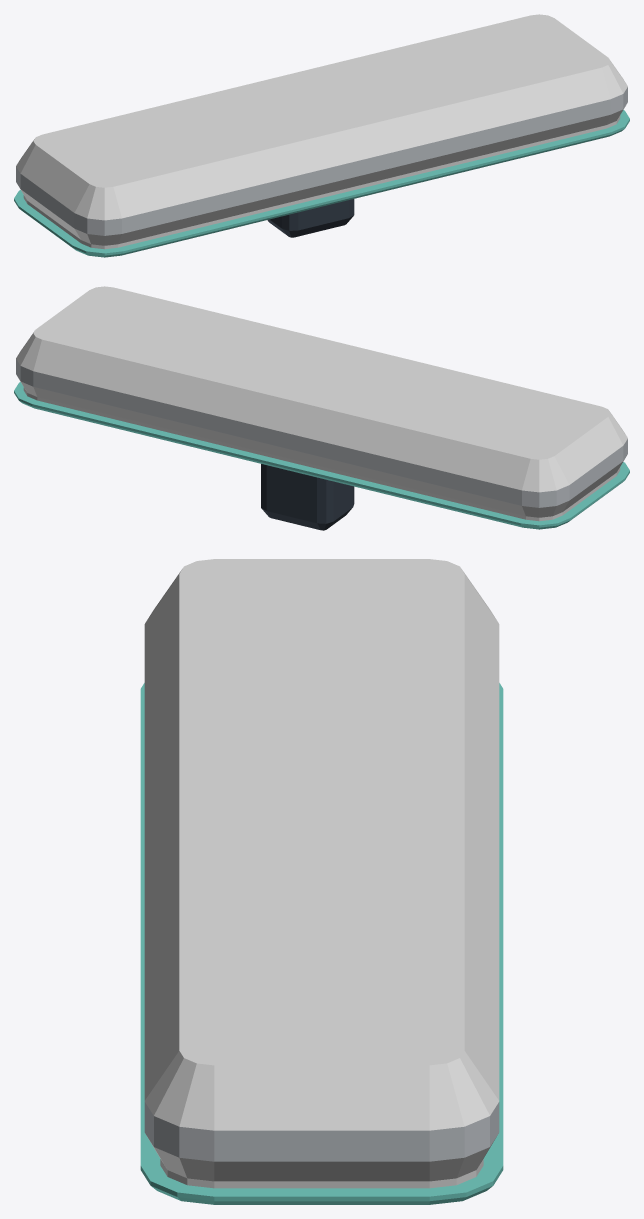
The model's file is floating-capsule-bench-f6eb72.glb.
The picture shows the model from 3 angles, top to bottom: view 1: azimuth 30°, elevation 25°; view 2: azimuth 150°, elevation 25°; view 3: azimuth 270°, elevation 25°; orthographic projection. The views are drawn at different scales.
Visible parts, largest first — view 1: bench-body; view 2: bench-body; view 3: bench-body.
Boxes of the visible parts, box(x1,y1,x2,y2) form: bench-body: box(14, 14, 629, 257); bench-body: box(14, 286, 629, 530); bench-body: box(140, 559, 503, 1204).
Size of the model in its own units: 2.01 by 0.46 by 0.572.
